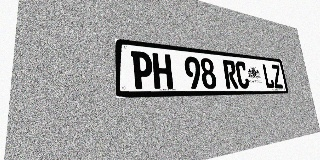8: (199, 57, 217, 89)
9: (184, 56, 202, 89)
C: (235, 61, 250, 89)
H: (152, 53, 173, 89)
L: (262, 64, 275, 88)
P: (131, 51, 154, 89)
R: (222, 60, 238, 89)
Z: (271, 64, 283, 88)
